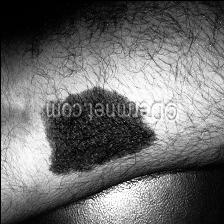Potentially Malignant Skin Tumors: (38, 122, 158, 180), (57, 84, 130, 104)
